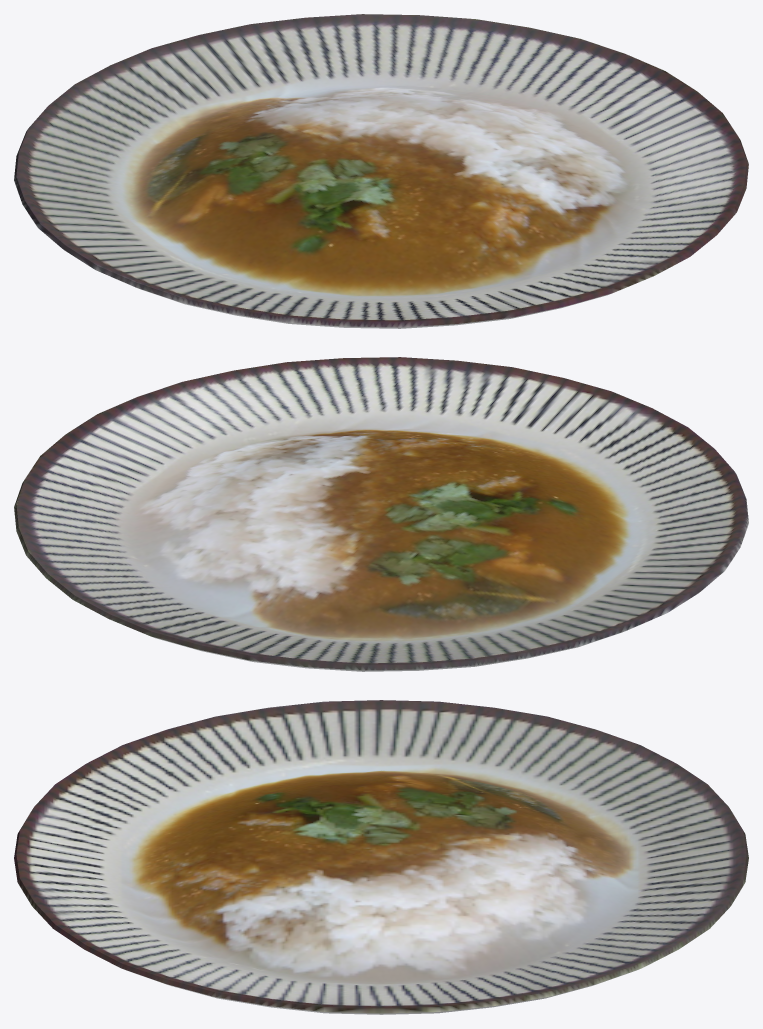
File: dish_A_curry.fbx
3 renders of one model, top to bottom at view 1: azimuth 30°, elevation 25°; view 2: azimuth 150°, elevation 25°; view 3: azimuth 270°, elevation 25°, orthographic.
Parts seen in each view (by area): view 1: dish_A_curry; view 2: dish_A_curry; view 3: dish_A_curry.
Boxes of the visible parts, box(x1,y1,x2,y2) form: dish_A_curry: box(14, 14, 748, 328); dish_A_curry: box(14, 357, 748, 671); dish_A_curry: box(14, 700, 748, 1014).
Bounding box in the file's own units: 13.15 × 1.3 × 13.15.
Materials: 1 (1 with a texture image).
